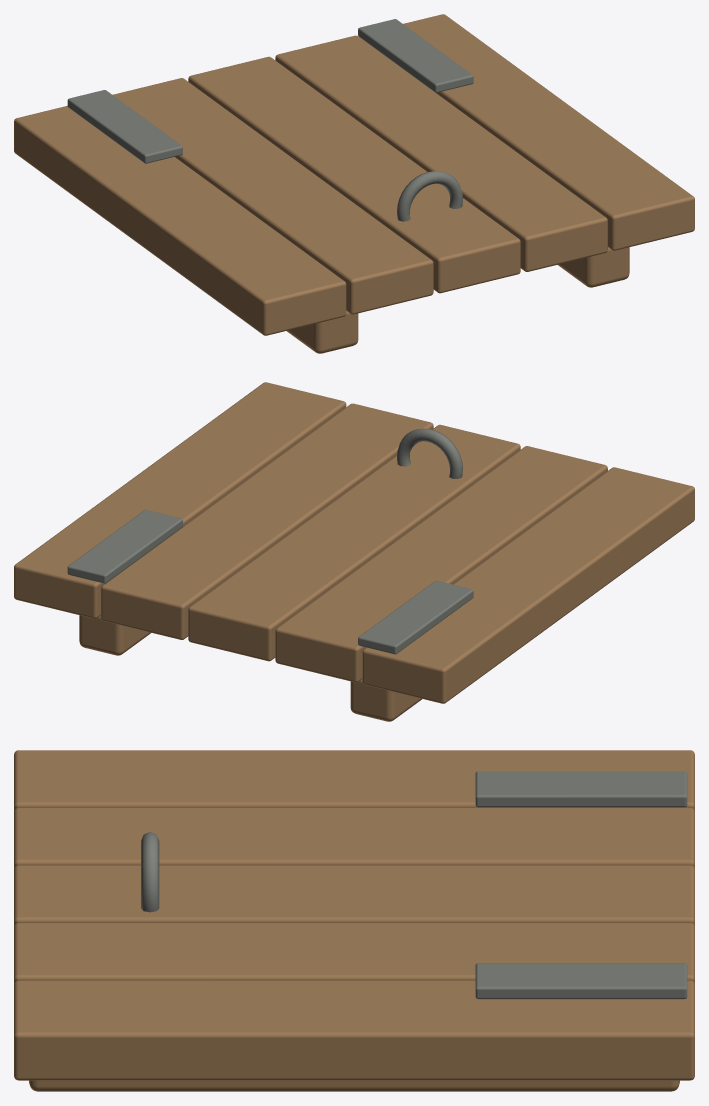
File: hoist-floor-trapdoor.glb
The picture shows the model from 3 angles, top to bottom: view 1: azimuth 30°, elevation 25°; view 2: azimuth 150°, elevation 25°; view 3: azimuth 270°, elevation 25°; orthographic projection. The views are drawn at different scales.
Visible parts, largest first — view 1: hoist-floor-trapdoor; view 2: hoist-floor-trapdoor; view 3: hoist-floor-trapdoor.
Boxes of the visible parts, x1,y1,x2,y2 form: hoist-floor-trapdoor: (14,14,694,353); hoist-floor-trapdoor: (14,382,694,721); hoist-floor-trapdoor: (14,750,694,1091).
Size of the model in its own units: 0.892 by 0.225 by 0.9.
